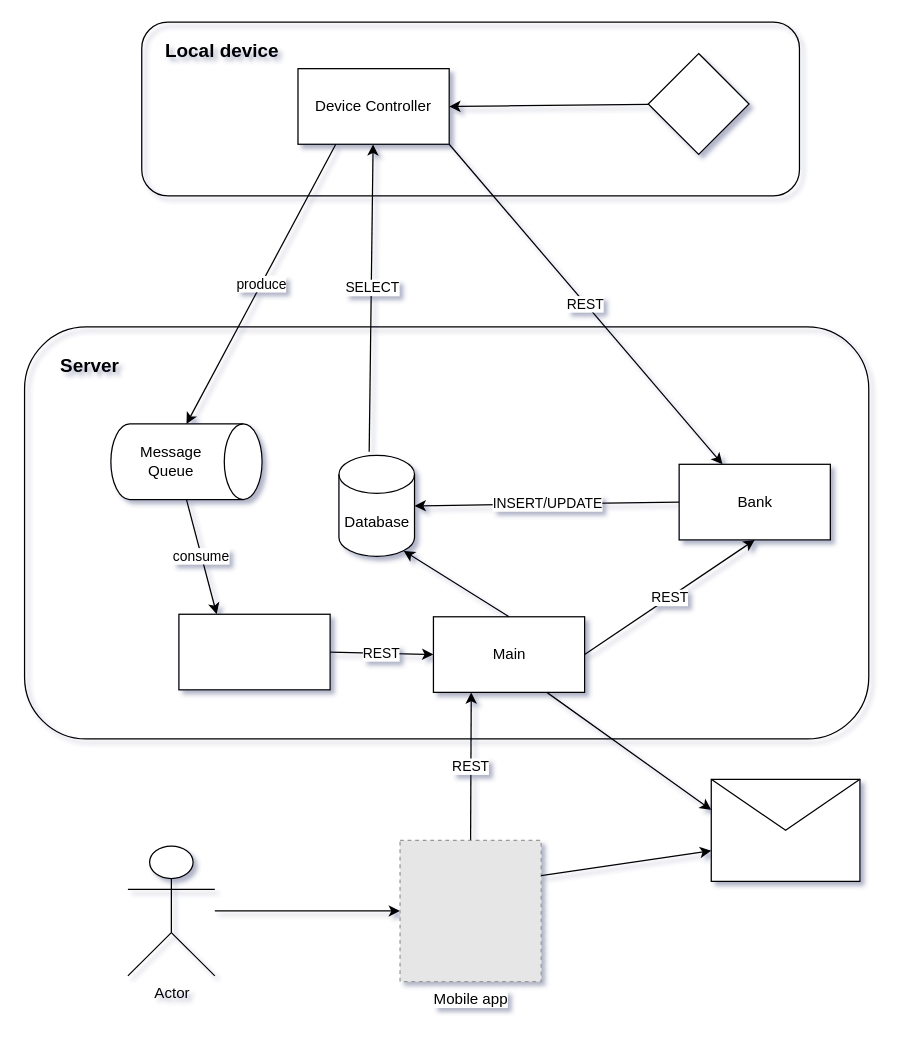
This 898x1037 diagram has some shape labels left out. Grey dashed boxes stand in for pictures. The box of each missing label's shape, as (x1, y1, x2, y2) in pixels:
E-mail service: (710, 778, 860, 881)
Message Consumer: (178, 613, 330, 690)
NV200: (647, 52, 749, 154)
